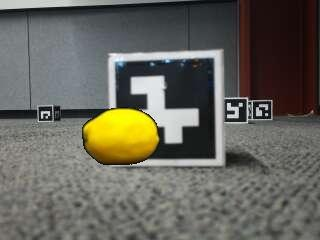lemon: (82, 108, 159, 165)
